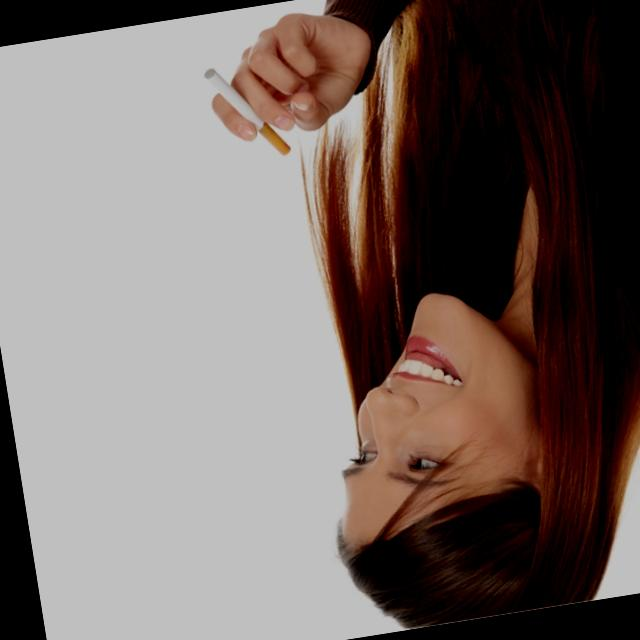smoke: (202, 52, 297, 170)
